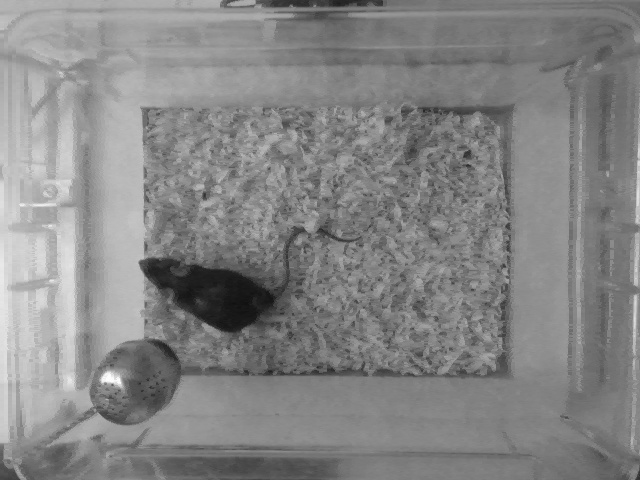mice: (133, 209, 359, 333)
